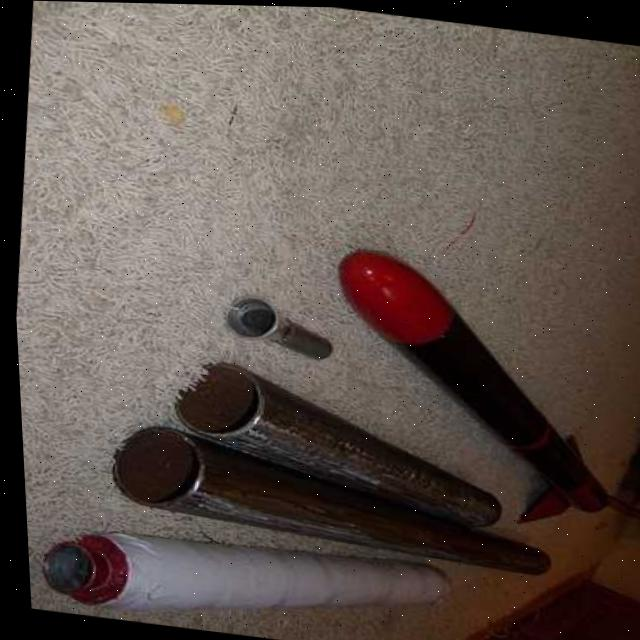missile: (313, 241, 640, 529)
